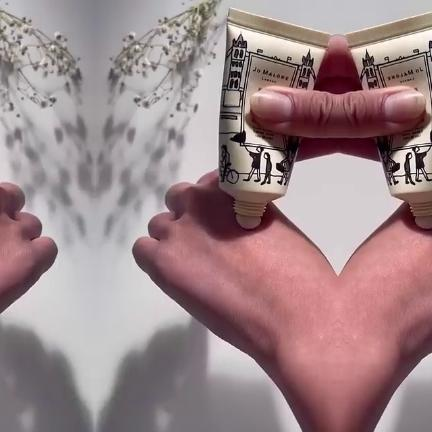Nail: (250, 90, 291, 123), (383, 90, 424, 123)
